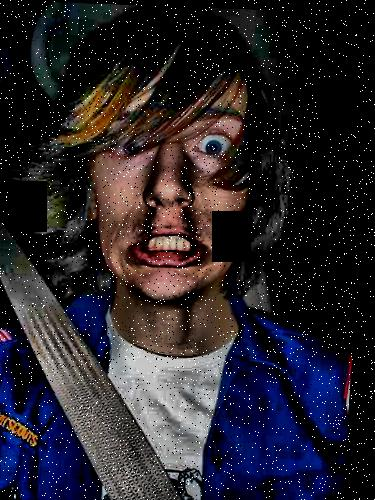seatbelt: (0, 218, 187, 491)
